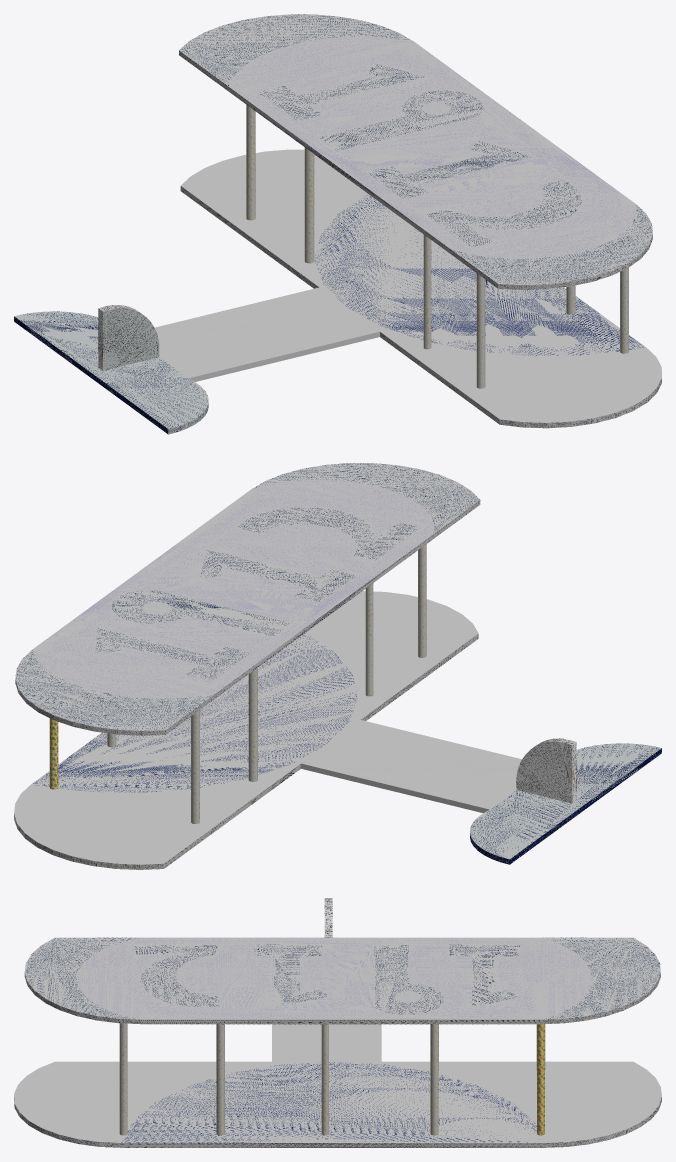
The picture shows the model from 3 angles, top to bottom: view 1: azimuth 30°, elevation 25°; view 2: azimuth 150°, elevation 25°; view 3: azimuth 270°, elevation 25°; orthographic projection. The views are drawn at different scales.
Visible parts, largest first — view 1: mesh2_mesh2-geometry, mesh1_mesh1-geometry; view 2: mesh2_mesh2-geometry, mesh1_mesh1-geometry; view 3: mesh1_mesh1-geometry, mesh2_mesh2-geometry.
Boxes of the visible parts, left/top/right/bottom form: mesh2_mesh2-geometry: left=14, top=149, right=661, bottom=434; mesh1_mesh1-geometry: left=179, top=14, right=652, bottom=388; mesh2_mesh2-geometry: left=14, top=591, right=661, bottom=869; mesh1_mesh1-geometry: left=15, top=463, right=480, bottom=823; mesh1_mesh1-geometry: left=24, top=937, right=660, bottom=1135; mesh2_mesh2-geometry: left=14, top=898, right=661, bottom=1147.
Size of the model in its own units: 0.5725 by 0.1747 by 0.8011.
